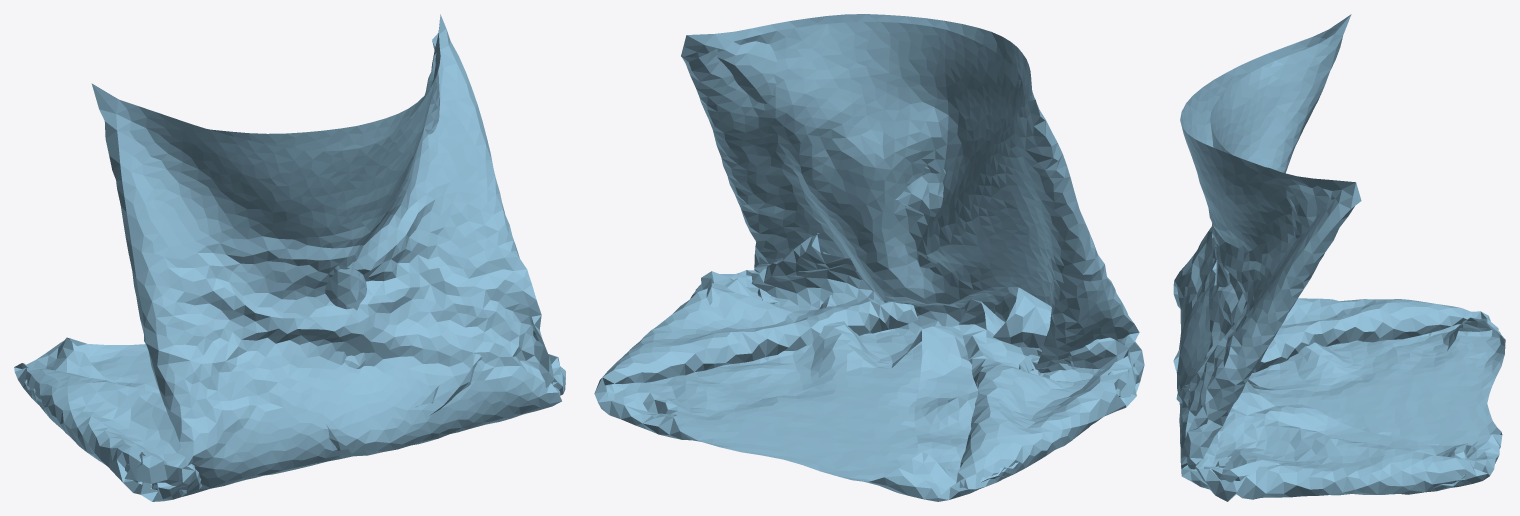
File: frame_14.glb
3 views of the same model, side by side, from view 1: azimuth 30°, elevation 25°; view 2: azimuth 150°, elevation 25°; view 3: azimuth 270°, elevation 25° (orthographic). The views are drawn at different scales.
Visible parts, largest first — view 1: frame_14.obj; view 2: frame_14.obj; view 3: frame_14.obj.
Boxes of the visible parts, x1,y1,x2,y2 form: frame_14.obj: [14, 14, 565, 501]; frame_14.obj: [594, 14, 1144, 501]; frame_14.obj: [1173, 14, 1505, 501].
Size of the model in its own units: 1.21 by 0.9421 by 0.8896.
